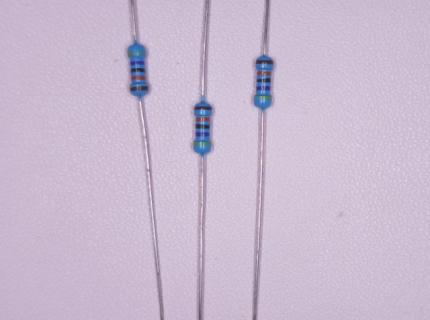Black band: (131, 68, 145, 73), (196, 124, 210, 129), (257, 78, 271, 83)
Brown band: (130, 86, 148, 91), (256, 60, 273, 65), (195, 107, 212, 110)
Orange band: (131, 76, 146, 81), (196, 117, 210, 122), (257, 71, 271, 75)
Violet band: (196, 132, 210, 137), (257, 86, 270, 91), (131, 61, 145, 65)
Yellow band: (194, 141, 211, 146), (128, 52, 145, 56), (255, 96, 271, 100)
